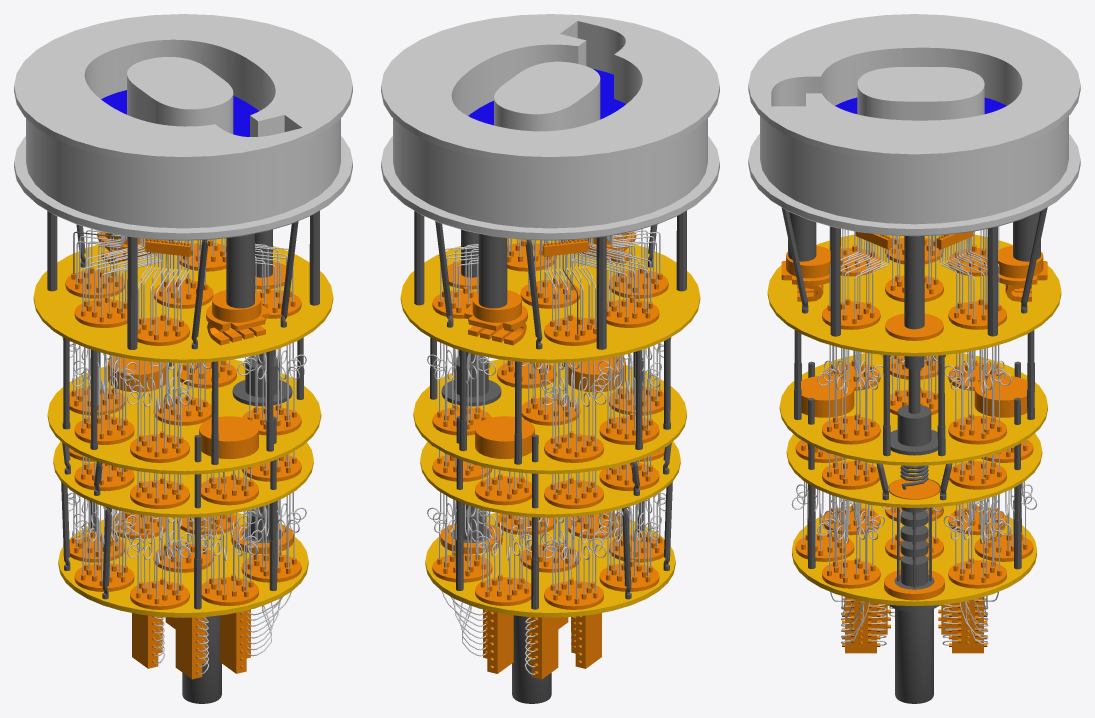
File: Chande.FBX
3 views of the same model, side by side, from view 1: azimuth 30°, elevation 25°; view 2: azimuth 150°, elevation 25°; view 3: azimuth 270°, elevation 25° (orthographic).
Visible parts, largest first — view 1: Top, Gold02, Gold, Pipes, Metal, Metal02, Metal001, Core, Q; view 2: Top, Gold02, Gold, Pipes, Metal, Metal02, Metal001, Core, Q; view 3: Top, Gold02, Gold, Pipes, Metal02, Metal001, Metal, Core.
Boxes of the visible parts, x1,y1,x2,y2 form: Top: [14, 14, 352, 240]; Gold02: [65, 232, 301, 679]; Gold: [33, 238, 333, 617]; Pipes: [62, 229, 306, 674]; Metal: [47, 210, 319, 464]; Metal02: [76, 221, 298, 406]; Metal001: [61, 358, 282, 609]; Core: [182, 615, 221, 703]; Q: [101, 90, 258, 136]; Top: [381, 14, 719, 240]; Gold02: [432, 232, 668, 679]; Gold: [400, 238, 700, 617]; Pipes: [427, 229, 671, 674]; Metal: [414, 210, 686, 464]; Metal02: [435, 221, 657, 406]; Metal001: [432, 358, 672, 609]; Core: [512, 615, 551, 703]; Q: [468, 69, 625, 125]; Top: [748, 14, 1080, 236]; Gold02: [781, 231, 1047, 653]; Gold: [767, 234, 1061, 605]; Pipes: [791, 226, 1037, 645]; Metal02: [781, 207, 1047, 455]; Metal001: [807, 361, 1021, 589]; Metal: [794, 226, 1034, 456]; Core: [889, 605, 939, 703].
Bounding box in the file's own units: 26 × 52.07 × 26.
